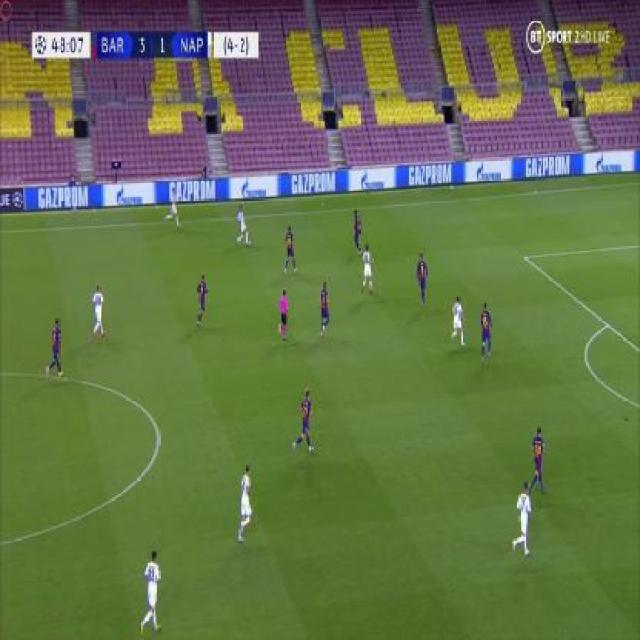ball: (246, 239, 252, 248)
player: (139, 545, 164, 633), (510, 481, 535, 560), (293, 388, 316, 457), (235, 461, 254, 544), (528, 426, 547, 497), (45, 317, 65, 380), (478, 300, 494, 365), (90, 283, 107, 342), (194, 272, 211, 328), (316, 279, 332, 338), (451, 294, 467, 350), (415, 252, 431, 308), (282, 223, 298, 277), (360, 243, 376, 297), (236, 201, 252, 249), (276, 287, 290, 341), (350, 207, 363, 253), (167, 188, 181, 227)
